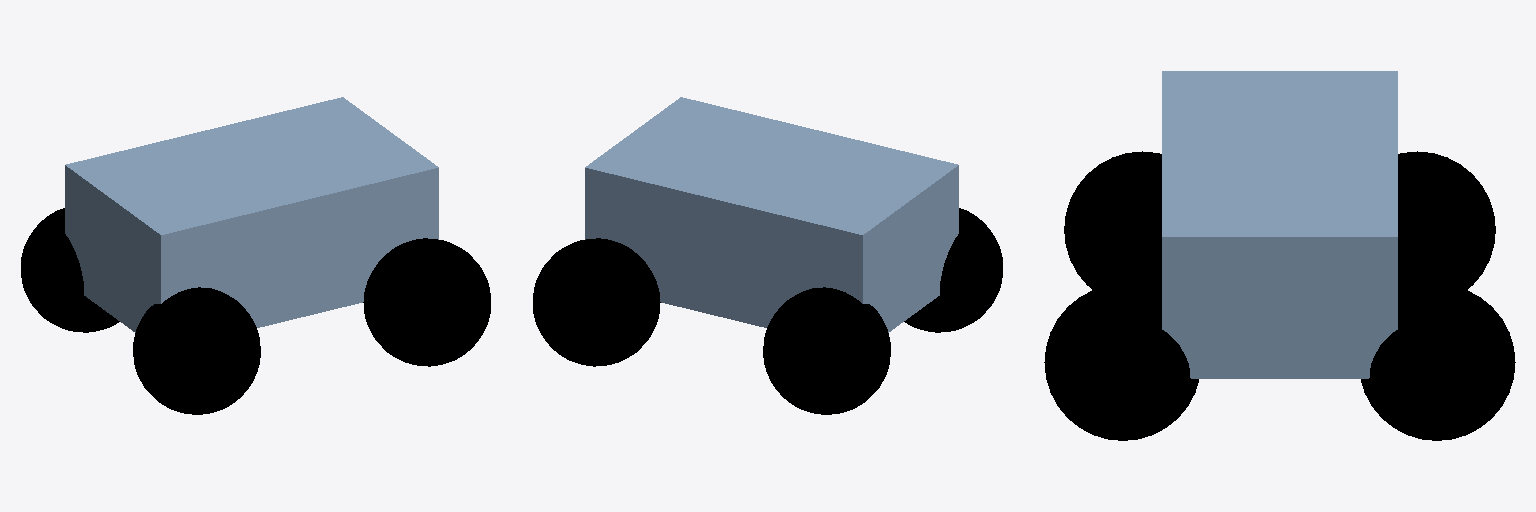
The robot description file, URDF, robot "car":
<?xml version="1.0"?> 
<robot name="car">
    <!-- Colors --> 
    <material name="black"> 
        <color rgba="0 0 0 1"/>
    </material>
    <material name="blue"> 
        <color rgba="0.6 0.7 0.8 1"/>
    </material>


    <!-- Base Frame of Car --> 
    <link name="base_link">
        <visual> 
            <geometry> 
                <box size="0.5 0.3 0.2"/>
            </geometry>
			<origin xyz="0 0 0.1"/>
            <material name="blue"/>
        </visual>
	    <collision>
			<geometry>
		        <box size="0.5 0.3 0.2"/>
			</geometry>
			<origin xyz="0 0 0.1"/>
	    </collision>
        <inertial> 
            <mass value="6"/>
            <inertia ixx="-1" ixy="-1" ixz="-1" iyy="-1" iyz="-1" izz="-1"/>
        </inertial> 
    </link> 


    <!-- Left Front Wheel -->
    <link name="left_front_wheel">
        <visual> 
            <geometry> 
                <sphere radius="0.1"/>
            </geometry>
            <origin rpy="1.57075 1.57075 0"/>
            <material name="black"/>
        </visual>
        <collision> 
             <geometry>
				 <sphere radius="0.1"/>
            </geometry>
            <origin rpy="1.57075 1.57075 0"/>
        </collision> 
        <inertial> 
            <origin rpy="1.57075 1.57075 0"/>
            <mass value="0.3"/>
			<inertia ixx="-1" ixy="-1" ixz="-1" iyy="-1" iyz="-1" izz="-1"/>
        </inertial> 
    </link> 
    <joint name="left_hinge_to_left_front_wheel" type="continuous">
        <parent link="left_hinge"/>
        <child link="left_front_wheel"/> 
        <axis xyz="0 1 0"/>
        <origin xyz="0 0.2 0"/>
		<dynamics damping="1.0"/>
    </joint>
    <!-- Left Front Wheel - Hinge -->
    <link name="left_hinge">
        <visual> 
            <geometry> 
                <box size="0.20 0.02 0.02"/>
            </geometry>
            <origin xyz="0 0.1 0 " rpy="0 0 1.57075"/>
            <material name="black"/>
        </visual>
        <inertial> 
            <origin rpy="0 0 1.57075"/>
            <mass value="0.01"/>
			<inertia ixx="-1" ixy="-1" ixz="-1" iyy="-1" iyz="-1" izz="-1"/>
        </inertial> 
    </link> 
    <joint name="base_to_left_hinge" type="fixed">
        <parent link="base_link"/>
        <child link="left_hinge"/> 
        <axis xyz="0 0 1"/>
        <origin xyz="0.2 0.0 0"/>
        <limit effort="100" lower="-0.5" upper="0.5" velocity="100"/>
    </joint>
    <!-- Right Front Wheel -->
    <link name="right_front_wheel">
        <visual> 
            <geometry>
				<sphere radius="0.1"/>
            </geometry>
            <origin rpy="-1.57075 -1.57075 0"/>
            <material name="black"/>
        </visual>
        <collision> 
             <geometry>
				 <sphere radius="0.1"/>
            </geometry>
            <origin rpy="-1.57075 -1.57075 0"/>
        </collision> 
        <inertial> 
            <origin rpy="-1.57075 -1.57075 0"/>
            <mass value="0.3"/>
			<inertia ixx="-1" ixy="-1" ixz="-1" iyy="-1" iyz="-1" izz="-1"/>
        </inertial> 
    </link> 
    <joint name="right_hinge_to_right_front_wheel" type="continuous">
        <parent link="right_hinge"/>
        <child link="right_front_wheel"/> 
        <axis xyz="0 1 0"/>
        <origin xyz="0 -0.2 0"/>
		<dynamics damping="1.0"/>
    </joint>
    <!-- Right Front Wheel - Hinge -->
    <link name="right_hinge">
        <visual> 
            <geometry> 
                <box size="0.20 0.02 0.02"/>
            </geometry>
            <origin xyz="0 -0.1 0 " rpy="0 0 -1.57075"/>
            <material name="black"/>
        </visual>
        <inertial> 
            <origin rpy="0 0 -1.57075"/>
            <mass value="0.01"/>
			<inertia ixx="-1" ixy="-1" ixz="-1" iyy="-1" iyz="-1" izz="-1"/>
        </inertial> 
    </link> 
    <joint name="base_to_right_hinge" type="fixed">
        <parent link="base_link"/>
        <child link="right_hinge"/> 
        <axis xyz="0 0 1"/>
        <origin xyz="0.2 0 0"/>
        <limit effort="100" lower="-0.5" upper="0.5" velocity="100"/>
    </joint>
    <!-- Left Back Wheel -->
    <link name="left_back_wheel">
        <visual> 
            <geometry>
				<sphere radius="0.1"/>
            </geometry>
            <origin rpy="1.57075 1.57075 0"/>
            <material name="black"/>
        </visual>
        <collision> 
             <geometry>
				 <sphere radius="0.1"/>
            </geometry>
            <origin rpy="1.57075 1.57075 0"/>
        </collision> 
        <inertial> 
            <origin rpy="1.57075 1.57075 0"/>
            <mass value="0.3"/>
			<inertia ixx="-1" ixy="-1" ixz="-1" iyy="-1" iyz="-1" izz="-1"/>
        </inertial> 
    </link> 
    <joint name="base_to_left_back_wheel" type="continuous">
        <parent link="base_link"/>
        <child link="left_back_wheel"/> 
        <axis xyz="0 1 0"/>
        <origin xyz="-0.2 0.175 0"/>
		<dynamics damping="1.0"/>
    </joint>
    <!-- Right Back Wheel -->
    <link name="right_back_wheel">
        <visual> 
            <geometry>
				<sphere radius="0.1"/>
            </geometry>
            <origin rpy="-1.57075 -1.57075 0"/>
            <material name="black"/>
        </visual>
        <collision> 
             <geometry>
				 <sphere radius="0.1"/>
            </geometry>
            <origin rpy="-1.57075 -1.57075 0"/>
        </collision> 
        <inertial> 
            <origin rpy="-1.57075 -1.57075 0"/>
            <mass value="0.3"/>
			<inertia ixx="-1" ixy="-1" ixz="-1" iyy="-1" iyz="-1" izz="-1"/>
        </inertial> 
    </link> 
    <joint name="base_to_right_back_wheel" type="continuous">
        <parent link="base_link"/>
        <child link="right_back_wheel"/> 
        <axis xyz="0 1 0"/>
        <origin xyz="-0.2 -0.175 0"/>
		<dynamics damping="1.0"/>
    </joint>
</robot>

--- Render facts (derived) ---
Views: 3 orthographic renders of the robot side by side, from view 1: azimuth 30°, elevation 25°; view 2: azimuth 150°, elevation 25°; view 3: azimuth 270°, elevation 25°.
Robot: car — 7 links, 6 joints (4 continuous, 2 fixed); root link base_link; default pose: every joint at zero.
Visible links, largest first — view 1: base_link, right_front_wheel, right_back_wheel, left_back_wheel; view 2: base_link, left_front_wheel, left_back_wheel, right_back_wheel; view 3: base_link, left_front_wheel, right_front_wheel, right_back_wheel, left_back_wheel.
Link boxes in pixels (x1,y1,x2,y2): base_link: [65, 97, 438, 332]; right_front_wheel: [363, 238, 490, 366]; right_back_wheel: [133, 287, 260, 414]; left_back_wheel: [21, 208, 119, 332]; base_link: [585, 97, 958, 332]; left_front_wheel: [533, 238, 660, 366]; left_back_wheel: [763, 287, 890, 414]; right_back_wheel: [904, 208, 1002, 332]; base_link: [1162, 71, 1397, 378]; left_front_wheel: [1361, 284, 1515, 440]; right_front_wheel: [1044, 284, 1198, 440]; right_back_wheel: [1064, 151, 1161, 294]; left_back_wheel: [1398, 151, 1495, 294].
Size in the robot's own frame: 0.6 by 0.6 by 0.3 metres.
Geometry: primitives only (box / cylinder / sphere), no mesh files.
